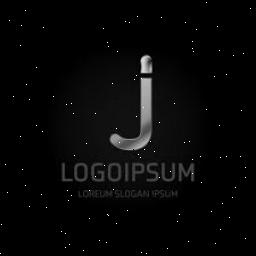j: (103, 43, 165, 155)
